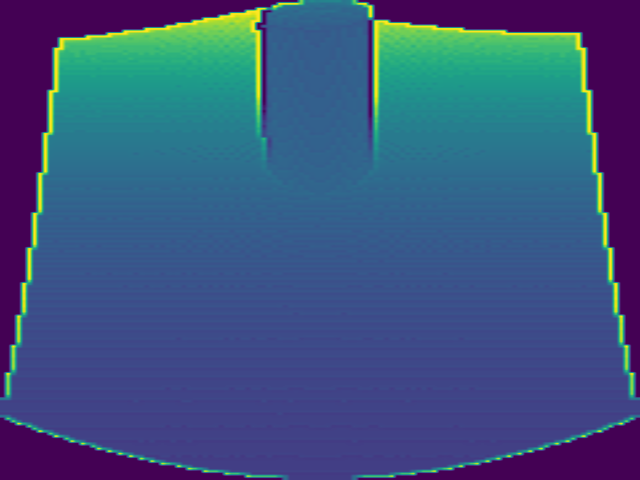cylinder: (251, 3, 379, 185)
